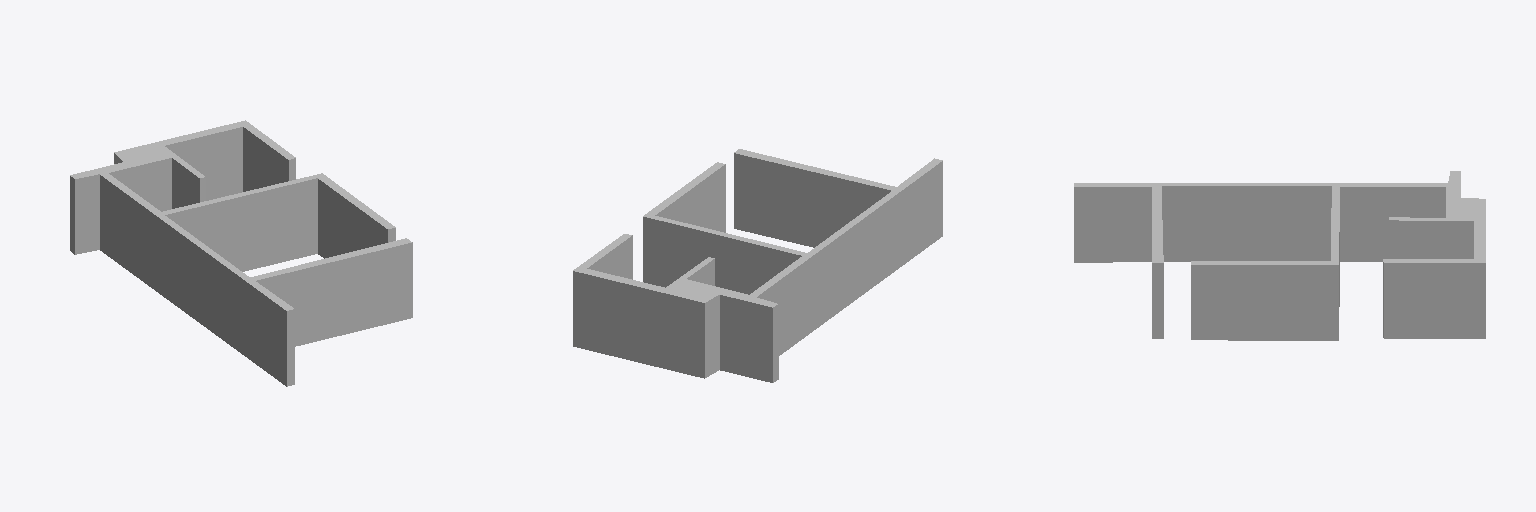
The model's file is bright_128-128.obj.
The picture shows the model from 3 angles: view 1: azimuth 30°, elevation 25°; view 2: azimuth 150°, elevation 25°; view 3: azimuth 270°, elevation 25°; orthographic projection.
Visible parts, largest first — view 1: polySurface6; view 2: polySurface6; view 3: polySurface6.
Part boxes in pixels (x1,y1,x2,y2): polySurface6: (70,120,412,386); polySurface6: (573,149,942,382); polySurface6: (1074,171,1485,340).
Size of the model in its own units: 49.13 by 18.54 by 91.28.